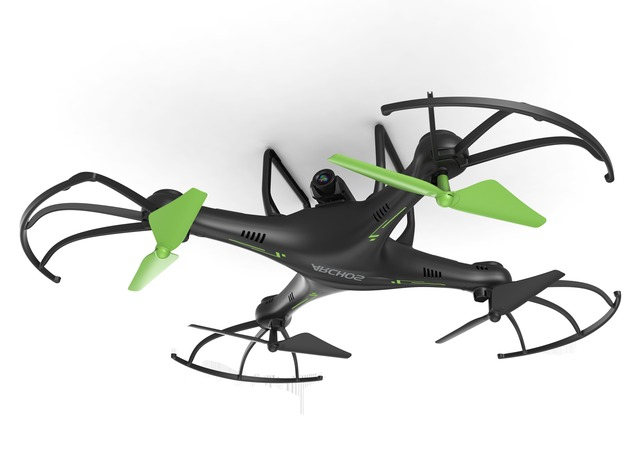drone: (16, 92, 622, 385)
